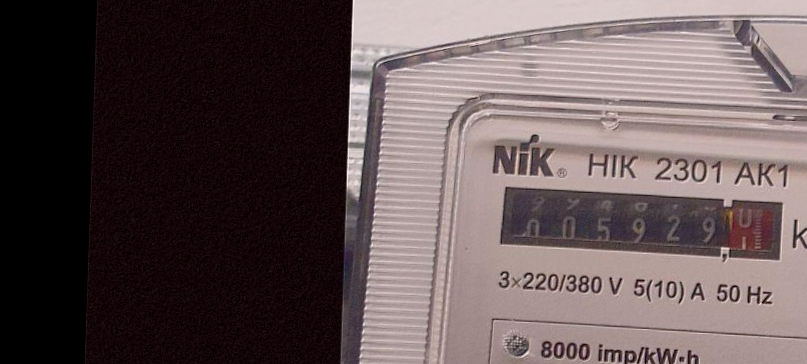0: (560, 213, 580, 241), (523, 214, 545, 237), (736, 206, 756, 229)
2: (664, 211, 684, 245)
5: (595, 214, 614, 243)
9: (628, 214, 650, 245), (700, 214, 720, 246), (529, 194, 547, 212)
screen: (494, 181, 792, 270)
